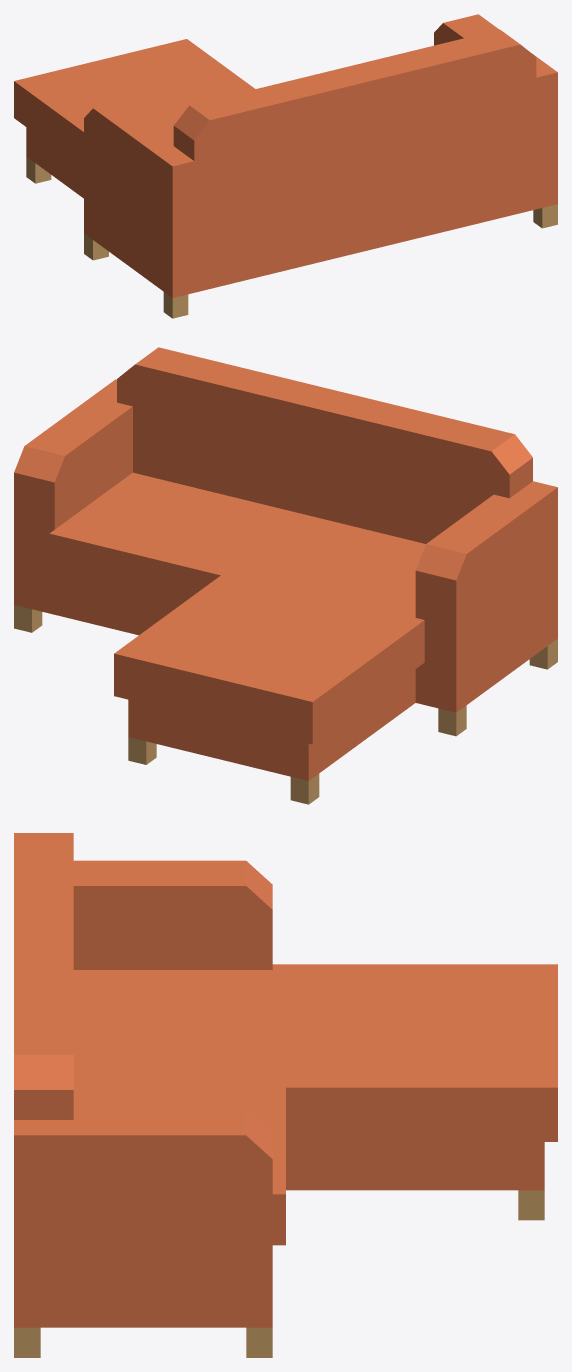
File: loungeSofaLong.glb
3 views of the same model, one above another, from view 1: azimuth 30°, elevation 25°; view 2: azimuth 150°, elevation 25°; view 3: azimuth 270°, elevation 25° (orthographic). The views are drawn at different scales.
Size of the model in its own units: 9.8 by 4.6 by 8.2.
